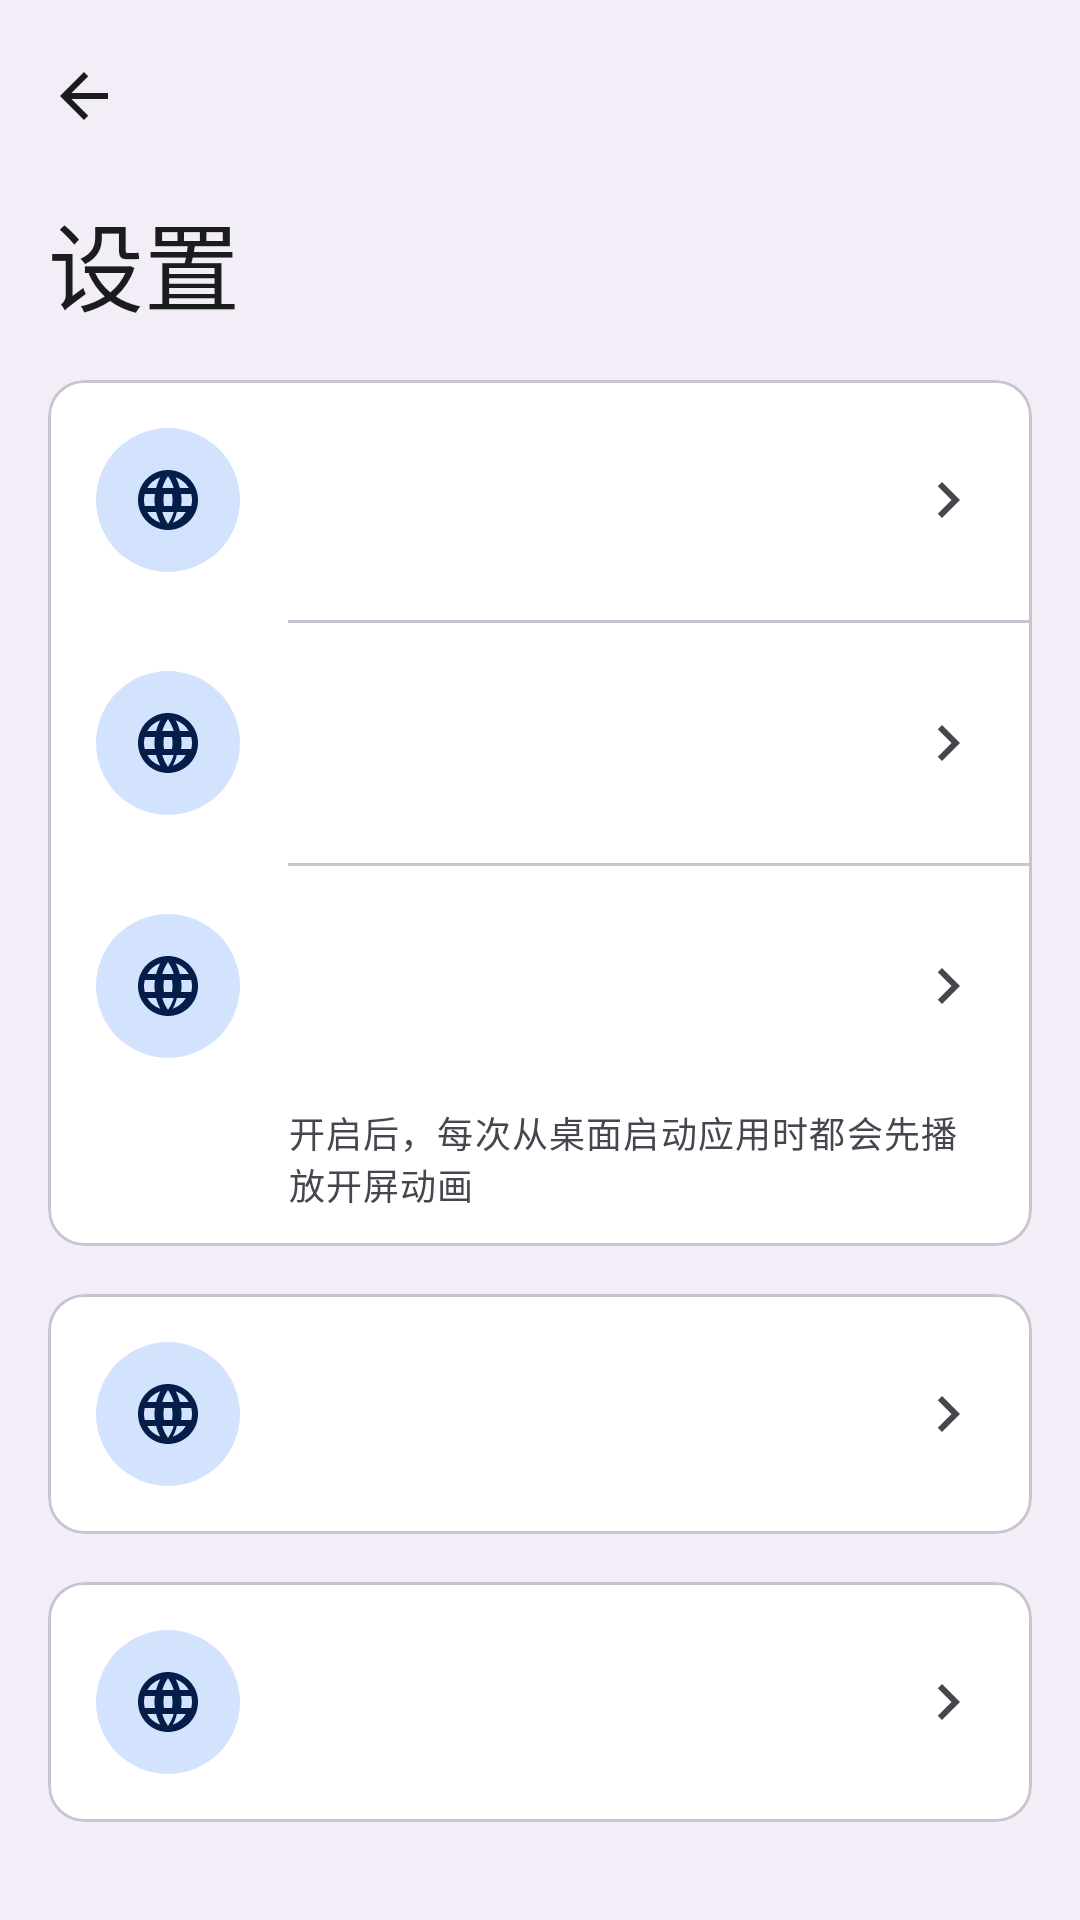

Named icons in this screenshot (1080*1920) and their centers, point (x, y):
chevron right: point (949, 500), point (949, 743), point (949, 986), point (949, 1414), point (949, 1702)
language: point (168, 500), point (168, 743), point (168, 986), point (168, 1414), point (168, 1702)
